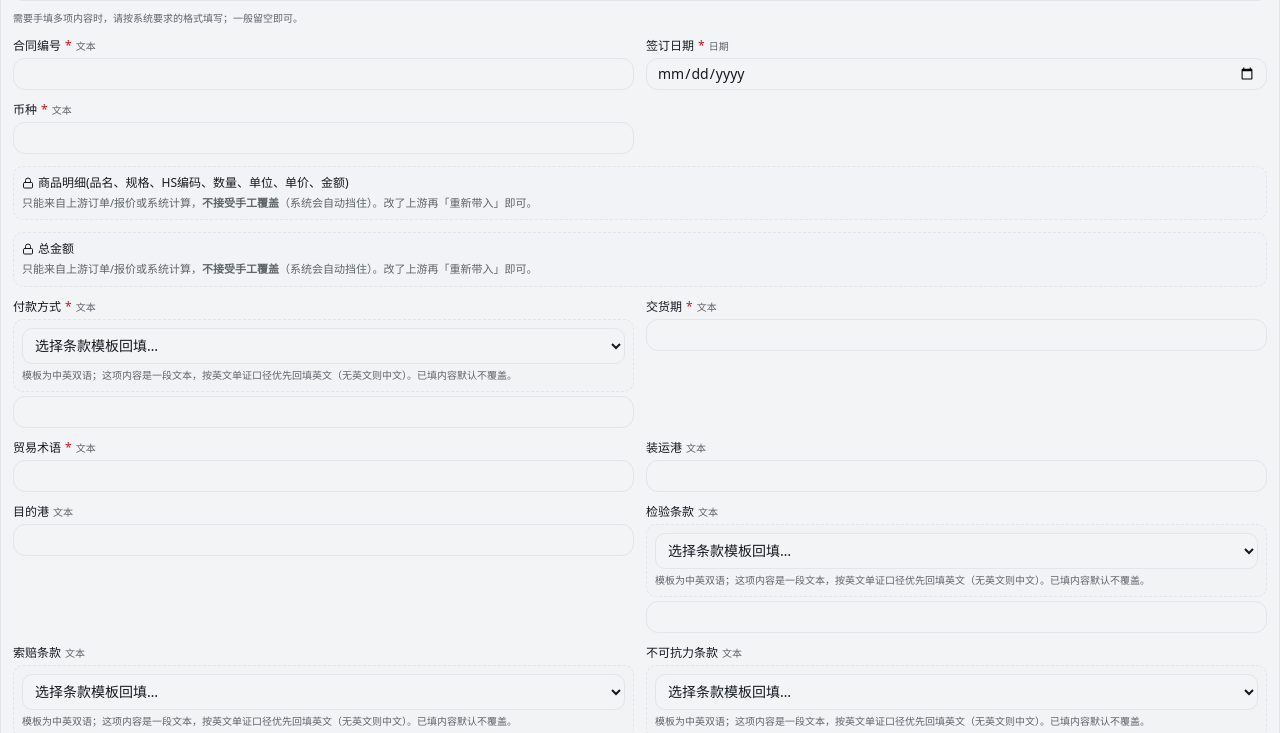
Test: DocCustomForm · 条款模板回填 › 空字段：选模板直接回填英文 text_en（单段字段英文单证口径）
The width and height of the screenshot is (1280, 733).
(page scrolled)
Select "30% 定金条款" in the dropdown named "付款方式 条款模板" at (324, 346), box [22,328,625,364]
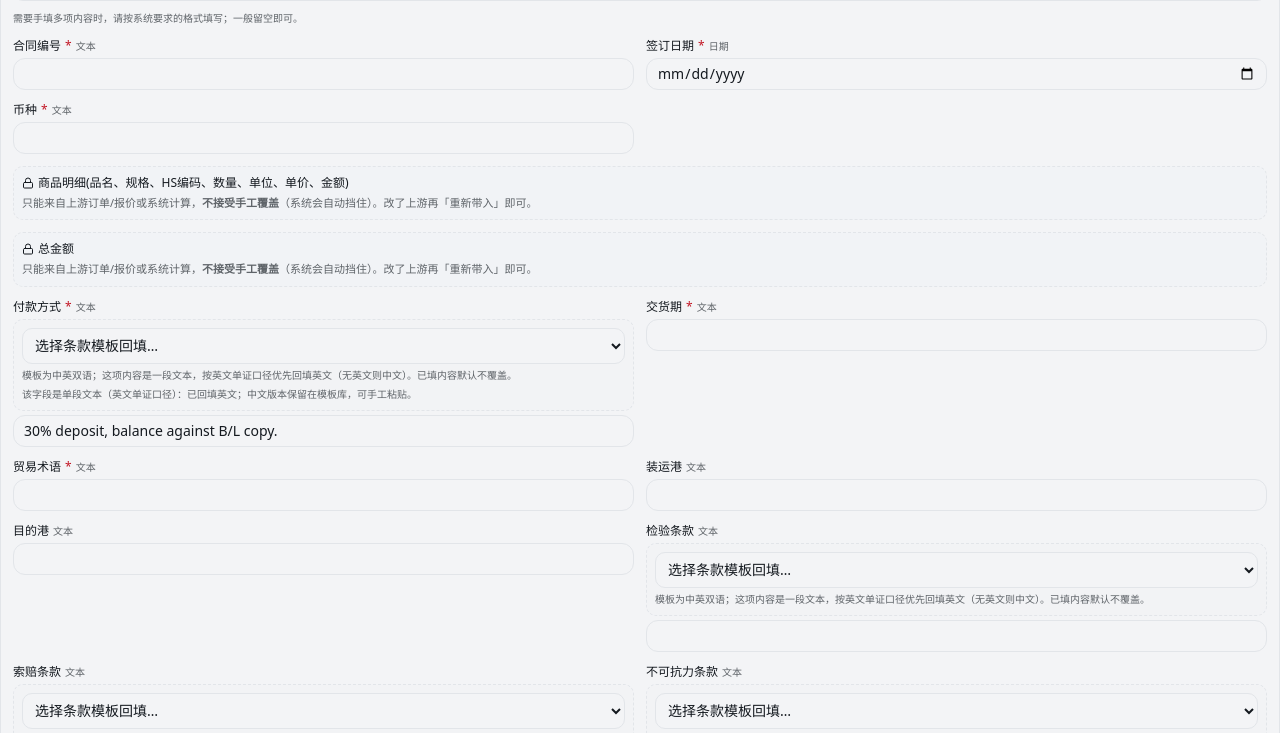
Check: the field below "该字段是单段文本（英文单证口径）：已回填英文；中文版本保留在模板库，可手工粘贴。" holds "30% deposit, balance against B/L copy.", box [13,414,634,446]
Check: the text "该字段是单段文本（英文单证口径）：已回填英文" is shown, box [22,386,417,400]
